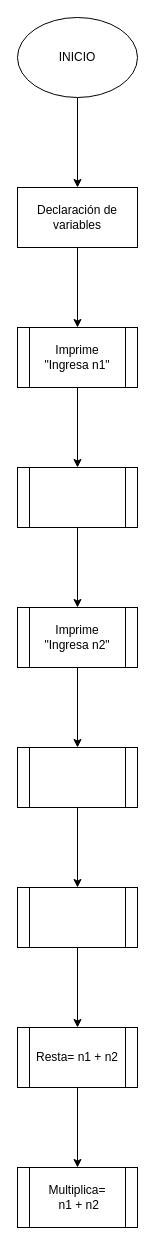
This 155x1245 diagram has some shape labels left out. Here are the shapes that lost their labels. From the top down, the centre of each, then its label:
At pixel 77 497: "Guarda n1".
At pixel 77 777: "Guarda n2".
At pixel 77 917: "Suma= n1 + n2".
